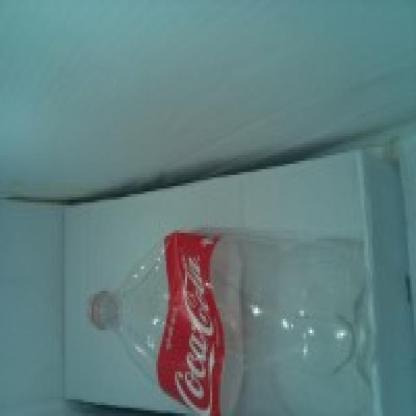Plastic Bottle: (87, 233, 384, 416)
